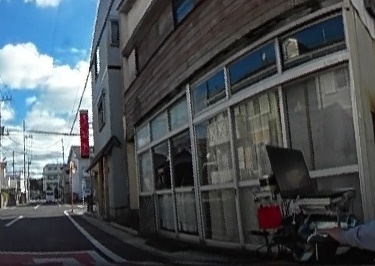person: (342, 57, 375, 266)
